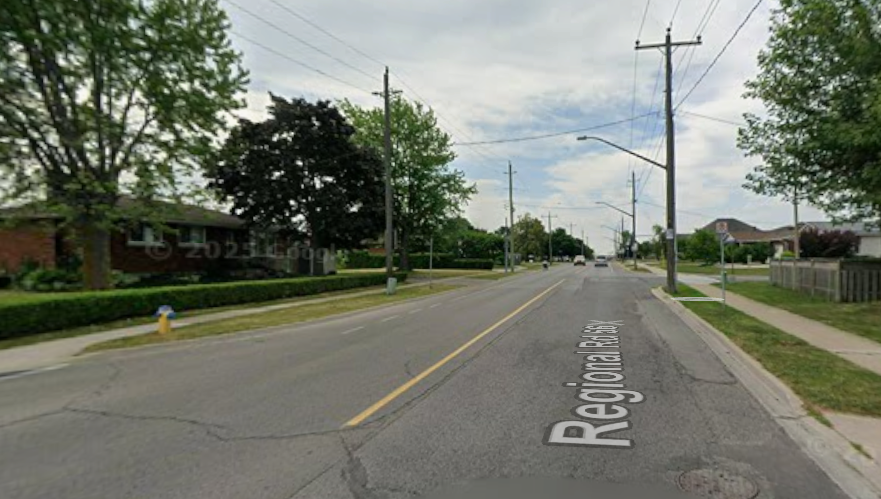cracks: (280, 413, 428, 499), (628, 297, 747, 396), (61, 395, 274, 447)
pothole: (655, 425, 785, 499)
